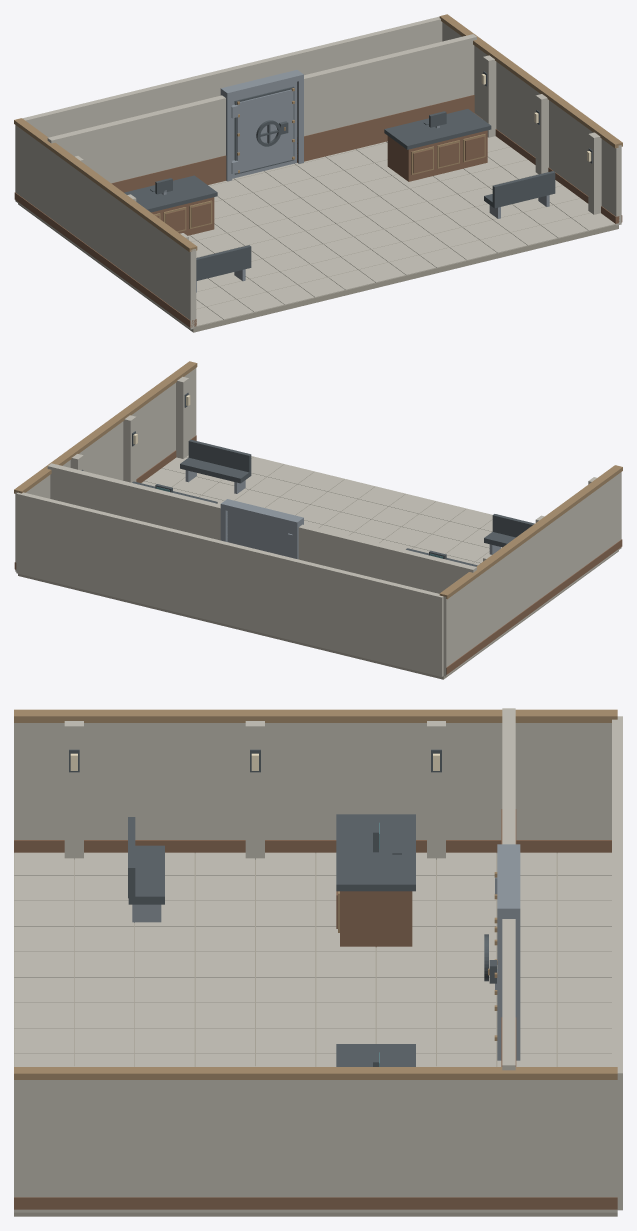
The model's file is bank-finished.glb.
3 views of the same model, one above another, from view 1: azimuth 30°, elevation 25°; view 2: azimuth 150°, elevation 25°; view 3: azimuth 270°, elevation 25° (orthographic). The views are drawn at different scales.
Parts seen in each view (by area): view 1: Wall_-7, VaultPartition_4.05, BackWall, VaultPartition_-4.05, Wall_7, VaultDoorFace, PartitionPanel_4.05, Floor, CounterTop_4.5, Cornice_-7, Cornice_7, Counter_4.5 (+83 smaller); view 2: BackWall, Wall_-7, VaultPartition_4.05, VaultPartition_-4.05, Wall_7, Cornice_-7, Cornice_7, VaultDoor, Floor, Baseboard_-7, BenchBack_5, Pilaster_6.8_4 (+30 smaller); view 3: Wall_7, Wall_-7, Cornice_-7, Baseboard_7, Cornice_7, CounterTop_-4.5, Floor, Baseboard_-7, BackWall, Counter_-4.5, Pilaster_-6.8_4, Pilaster_-6.8_1 (+88 smaller).
Part boxes in pixels (box(x1,y1,x2,y2)): Wall_-7: box(15, 125, 196, 329); VaultPartition_4.05: box(304, 34, 476, 136); BackWall: box(22, 16, 442, 137); VaultPartition_-4.05: box(47, 95, 225, 183); Wall_7: box(442, 22, 621, 225); VaultDoorFace: box(237, 89, 293, 172); PartitionPanel_4.05: box(297, 95, 474, 162); Floor: box(18, 203, 618, 332); CounterTop_4.5: box(384, 109, 491, 149); Cornice_-7: box(14, 118, 197, 252); Cornice_7: box(439, 14, 622, 148); Counter_4.5: box(387, 130, 487, 181); BackWall: box(16, 492, 443, 676); Wall_-7: box(443, 472, 621, 676); VaultPartition_4.05: box(47, 463, 220, 540); VaultPartition_-4.05: box(298, 524, 476, 593); Wall_7: box(15, 368, 196, 571); Cornice_-7: box(439, 465, 622, 599); Cornice_7: box(14, 361, 197, 493); VaultDoor: box(227, 511, 292, 557); Floor: box(18, 550, 618, 679); Baseboard_-7: box(446, 539, 622, 674); BenchBack_5: box(188, 439, 251, 472); Pilaster_6.8_4: box(176, 376, 188, 458); Wall_7: box(14, 1080, 617, 1212); Wall_-7: box(14, 723, 611, 853); Cornice_-7: box(14, 709, 617, 722); Baseboard_7: box(14, 1197, 617, 1209); Cornice_7: box(14, 1067, 617, 1079); CounterTop_-4.5: box(336, 814, 415, 891); Floor: box(14, 853, 617, 1216); Baseboard_-7: box(14, 840, 611, 852); BackWall: box(612, 716, 622, 1210); Counter_-4.5: box(340, 891, 412, 947); Pilaster_-6.8_4: box(64, 721, 83, 859); Pilaster_-6.8_1: box(245, 721, 264, 859).
Size of the model in its own units: 14.26 by 2.96 by 10.09.
